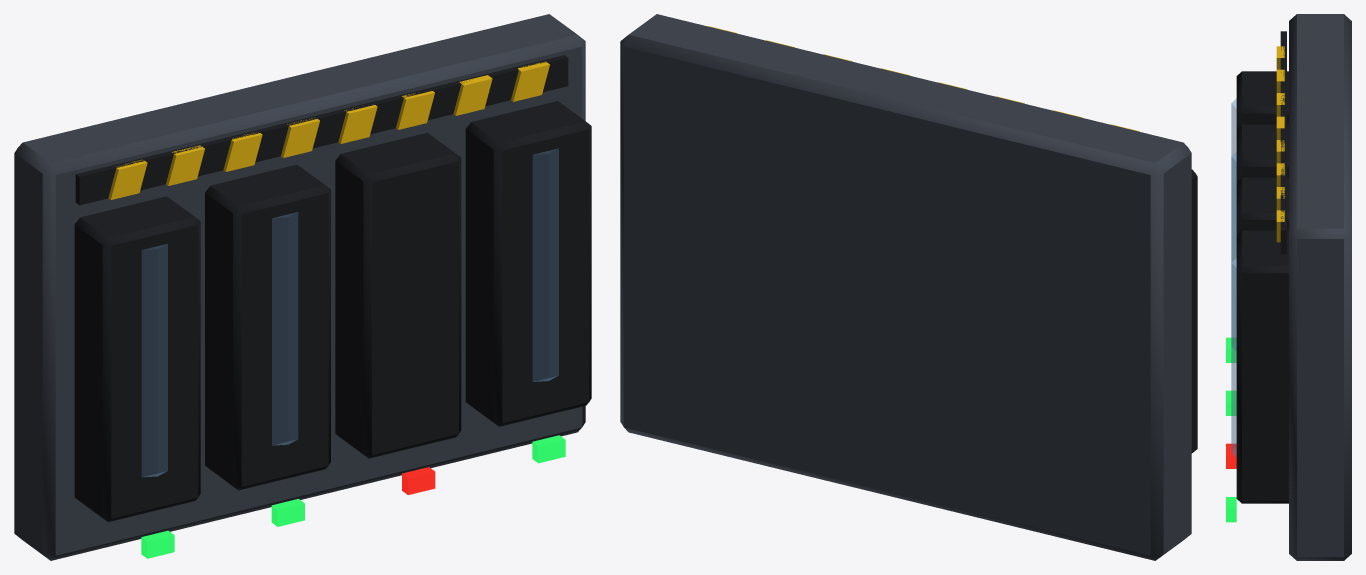
Rendered from capacitor_cell_charging_dock.glb.
The picture shows the model from 3 angles, left to right: view 1: azimuth 30°, elevation 25°; view 2: azimuth 150°, elevation 25°; view 3: azimuth 270°, elevation 25°; orthographic projection. The views are drawn at different scales.
Visible parts, largest first — view 1: capacitor_cell_charging_dock; view 2: capacitor_cell_charging_dock; view 3: capacitor_cell_charging_dock.
Part boxes in pixels (x1,y1,x2,y2): capacitor_cell_charging_dock: [14, 14, 591, 560]; capacitor_cell_charging_dock: [620, 14, 1197, 560]; capacitor_cell_charging_dock: [1226, 14, 1351, 560].
Size of the model in its own units: 1 by 0.7 by 0.24.
